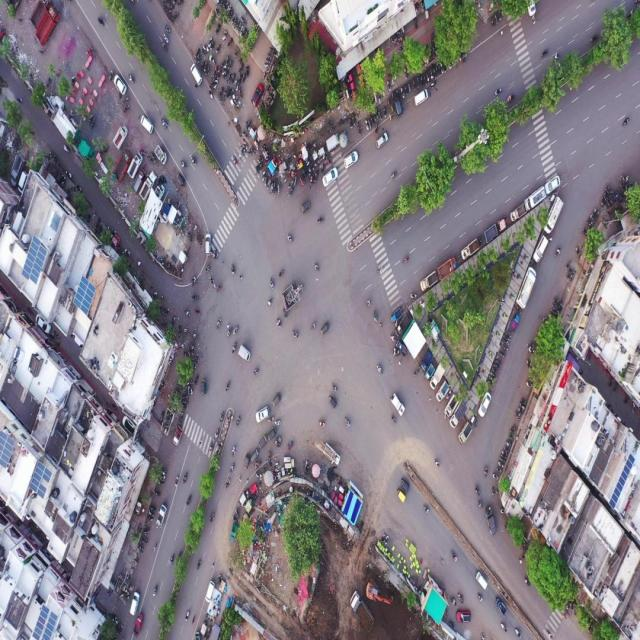3W: (175, 169, 187, 188), (299, 197, 311, 215), (321, 319, 330, 338), (401, 476, 412, 491), (327, 393, 337, 409), (258, 435, 268, 451), (200, 376, 207, 398), (242, 453, 250, 471), (272, 393, 282, 406), (397, 489, 406, 503), (251, 448, 259, 463), (268, 428, 277, 440)
Cars: (534, 235, 551, 266), (322, 168, 339, 192), (392, 392, 406, 417), (189, 63, 202, 88), (393, 87, 402, 123), (138, 115, 155, 134), (545, 174, 561, 194), (479, 392, 491, 418), (474, 569, 488, 591), (413, 89, 429, 108), (251, 81, 264, 104), (454, 609, 473, 624), (344, 150, 358, 170), (113, 75, 127, 94), (130, 588, 139, 617), (376, 131, 389, 150), (255, 406, 270, 421), (205, 228, 211, 257)
LCV: (514, 269, 538, 308), (544, 195, 564, 235), (523, 185, 545, 212), (484, 504, 499, 537), (438, 257, 457, 281), (460, 238, 478, 261), (140, 174, 155, 201), (420, 270, 438, 292), (113, 124, 128, 149), (128, 154, 143, 179), (431, 363, 444, 391), (444, 393, 458, 418), (324, 444, 341, 464), (133, 612, 146, 637), (436, 381, 450, 404), (452, 403, 466, 426), (324, 132, 340, 152), (156, 503, 168, 529), (419, 351, 433, 373), (459, 421, 472, 444), (510, 203, 526, 221), (495, 597, 508, 619), (237, 343, 252, 362), (154, 145, 168, 165), (172, 426, 184, 449), (397, 313, 409, 335), (391, 306, 403, 324), (510, 313, 521, 332), (396, 339, 407, 357), (424, 364, 434, 383)
M2W: (342, 413, 353, 432), (291, 323, 300, 346), (315, 213, 327, 230), (312, 257, 321, 279), (400, 252, 411, 269), (283, 231, 297, 244), (619, 115, 631, 130), (512, 624, 523, 640), (266, 273, 275, 292), (173, 471, 181, 491), (95, 14, 105, 30), (185, 487, 192, 509), (309, 319, 318, 336), (370, 307, 377, 327), (422, 501, 430, 518), (451, 548, 459, 565), (208, 512, 217, 527), (389, 170, 398, 185), (540, 47, 550, 60), (224, 381, 233, 395), (590, 31, 599, 45), (264, 297, 276, 307), (522, 575, 532, 587), (215, 315, 222, 332), (151, 585, 160, 598), (208, 436, 214, 455), (482, 465, 489, 481), (231, 441, 238, 457), (69, 75, 76, 91), (493, 86, 503, 97), (193, 305, 202, 317), (434, 458, 443, 470), (388, 415, 397, 427), (227, 36, 236, 48), (195, 558, 202, 573), (168, 552, 175, 567), (181, 472, 188, 487), (376, 361, 383, 376), (230, 263, 237, 278), (215, 280, 222, 295), (473, 483, 480, 498), (231, 341, 238, 356), (232, 321, 240, 334), (449, 595, 457, 608), (552, 50, 560, 63), (276, 314, 282, 331), (377, 260, 382, 280), (505, 93, 515, 103), (277, 269, 286, 280), (192, 293, 199, 307), (457, 590, 464, 604), (229, 459, 236, 473), (218, 409, 225, 423), (160, 117, 167, 131), (555, 245, 562, 259), (185, 609, 191, 625), (208, 86, 214, 102), (500, 621, 507, 634), (546, 627, 553, 640), (224, 477, 231, 490), (163, 31, 170, 44), (252, 366, 260, 377), (331, 383, 339, 394), (208, 54, 216, 65), (476, 590, 483, 602), (227, 325, 233, 339), (164, 22, 171, 34), (365, 297, 372, 309), (178, 412, 185, 424), (525, 357, 532, 369), (551, 295, 557, 309), (557, 298, 563, 312), (179, 159, 187, 169), (160, 41, 168, 51), (266, 178, 271, 194), (400, 84, 405, 100), (478, 233, 483, 249), (235, 415, 241, 428), (191, 274, 197, 287), (234, 46, 240, 59), (193, 374, 199, 387), (299, 174, 305, 187), (356, 125, 362, 138), (575, 244, 581, 257), (205, 263, 212, 274), (190, 155, 197, 166), (127, 72, 134, 83), (231, 155, 238, 166), (410, 290, 417, 301), (449, 618, 456, 629), (412, 368, 419, 379), (214, 428, 220, 440), (222, 28, 228, 40), (238, 63, 244, 75), (231, 73, 237, 85), (212, 65, 218, 77), (195, 48, 201, 60), (152, 490, 161, 498), (498, 350, 506, 359), (490, 15, 494, 33), (261, 169, 266, 183), (287, 179, 294, 189), (321, 160, 326, 174), (382, 104, 387, 118), (429, 81, 436, 91), (565, 260, 572, 270), (566, 273, 573, 283), (594, 205, 599, 219), (274, 419, 282, 427), (202, 44, 210, 52), (501, 344, 509, 352), (476, 500, 483, 509), (267, 415, 274, 424), (122, 104, 129, 113), (526, 380, 533, 389), (107, 70, 112, 82), (245, 66, 250, 78), (226, 54, 231, 66), (226, 72, 231, 84), (139, 545, 145, 555), (302, 168, 307, 180), (390, 333, 396, 343), (590, 212, 595, 224), (216, 41, 220, 55), (142, 530, 150, 537), (241, 130, 248, 138), (423, 74, 427, 88), (502, 339, 510, 346), (495, 14, 499, 28), (210, 40, 215, 51), (586, 218, 591, 229), (139, 539, 148, 545), (288, 187, 294, 196), (505, 441, 514, 447), (509, 433, 515, 442), (583, 228, 589, 237), (235, 80, 239, 93), (239, 88, 243, 101), (220, 84, 224, 97), (293, 174, 297, 187), (370, 114, 374, 127), (412, 77, 416, 90), (416, 76, 420, 89), (440, 61, 444, 74), (498, 9, 502, 22), (515, 307, 522, 314), (492, 473, 499, 480), (509, 426, 516, 433), (551, 308, 558, 315), (569, 267, 576, 274), (124, 94, 130, 102), (216, 23, 220, 35), (239, 73, 243, 85), (228, 61, 232, 73), (149, 510, 155, 518), (264, 175, 268, 187), (277, 183, 281, 195), (315, 170, 319, 182), (348, 118, 352, 130), (404, 83, 408, 95), (514, 413, 520, 421), (213, 80, 218, 89), (325, 156, 330, 165), (352, 114, 356, 125), (437, 64, 441, 75), (504, 335, 511, 341), (495, 359, 502, 365), (493, 364, 499, 371), (495, 468, 502, 474), (499, 457, 505, 464), (256, 473, 263, 479), (91, 119, 95, 129), (221, 59, 225, 69), (378, 110, 382, 120), (407, 82, 411, 92), (274, 182, 277, 195), (388, 97, 391, 110), (368, 119, 371, 132), (208, 37, 212, 46), (376, 121, 379, 133), (387, 80, 390, 92), (505, 331, 511, 337), (519, 404, 525, 410), (497, 462, 503, 468), (504, 447, 510, 453), (89, 113, 92, 124), (375, 107, 378, 118), (242, 73, 245, 83), (430, 70, 433, 80), (421, 74, 423, 86), (434, 69, 436, 78)
Truck: (348, 590, 376, 635), (34, 7, 58, 45), (114, 148, 130, 182)
